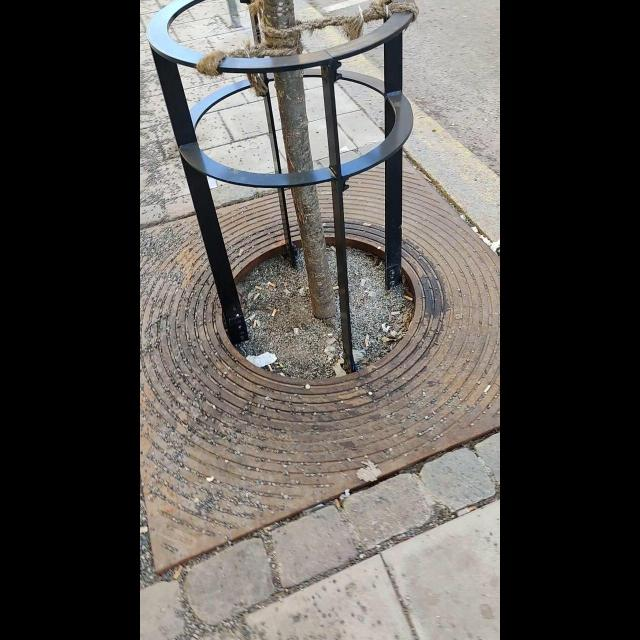cigarette: (363, 337, 370, 348), (252, 320, 258, 331), (254, 286, 264, 292), (403, 295, 413, 301), (391, 311, 401, 317), (483, 386, 491, 393), (268, 280, 277, 286), (272, 309, 277, 318), (238, 249, 244, 256), (362, 222, 372, 226), (268, 362, 272, 371), (332, 288, 337, 291)
